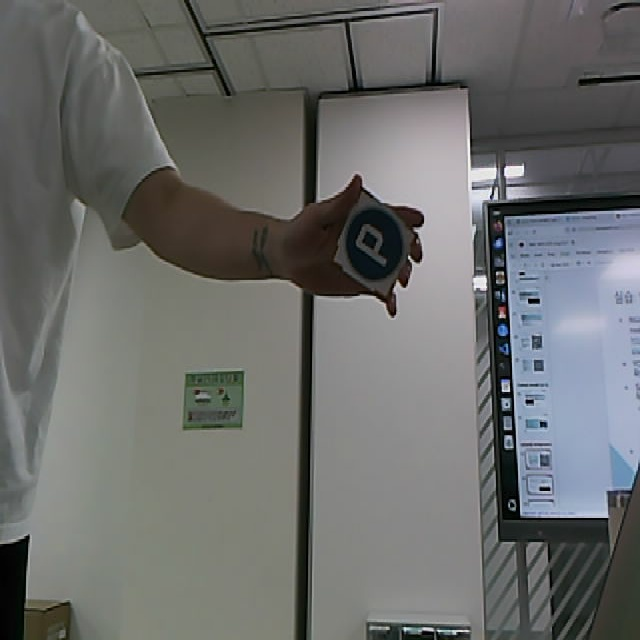parking: (329, 188, 418, 302)
